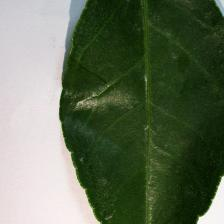healthy: (59, 1, 224, 224)
